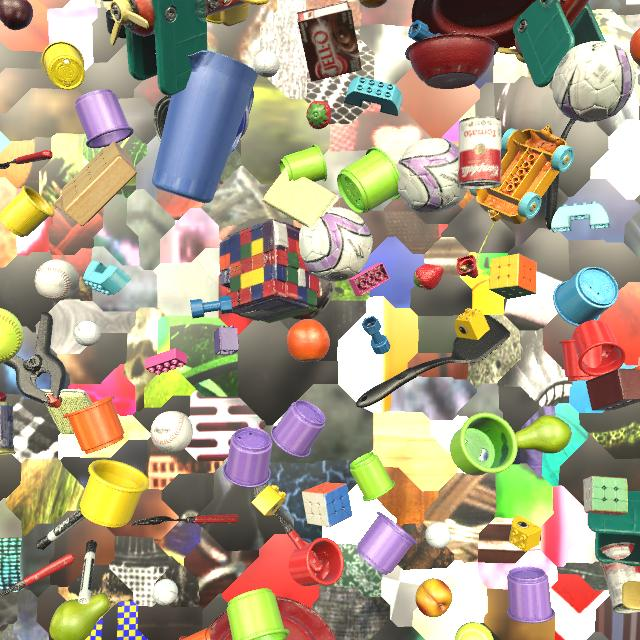ycb_002_master_chef_can: (153, 95, 249, 142)
ycb_005_tomato_soup_can: (458, 116, 502, 189), (600, 542, 640, 614)
ycb_008_pudding_box: (297, 0, 362, 82)
ycb_010_potted_meat_can: (0, 402, 16, 456)
ycb_012_strawberry: (413, 264, 444, 290), (306, 101, 331, 129)
ycb_015_peach: (415, 578, 452, 617), (359, 0, 387, 8)
ycb_016_pear: (49, 593, 111, 640), (515, 415, 572, 454)
ycb_017_orange: (287, 319, 330, 362), (629, 28, 640, 66)
ycb_018_plum: (0, 0, 33, 30), (102, 0, 113, 2)
